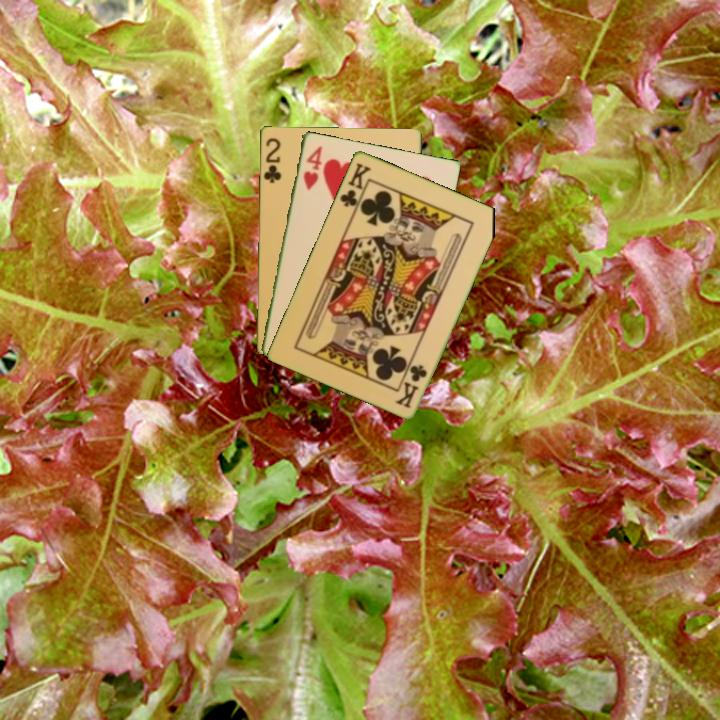2c: (260, 134, 284, 186)
4h: (299, 142, 325, 192)
Kc: (336, 159, 374, 215), (393, 361, 430, 411)
